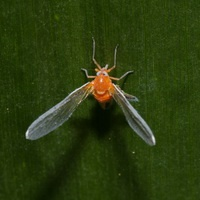insect: (26, 38, 155, 145)
